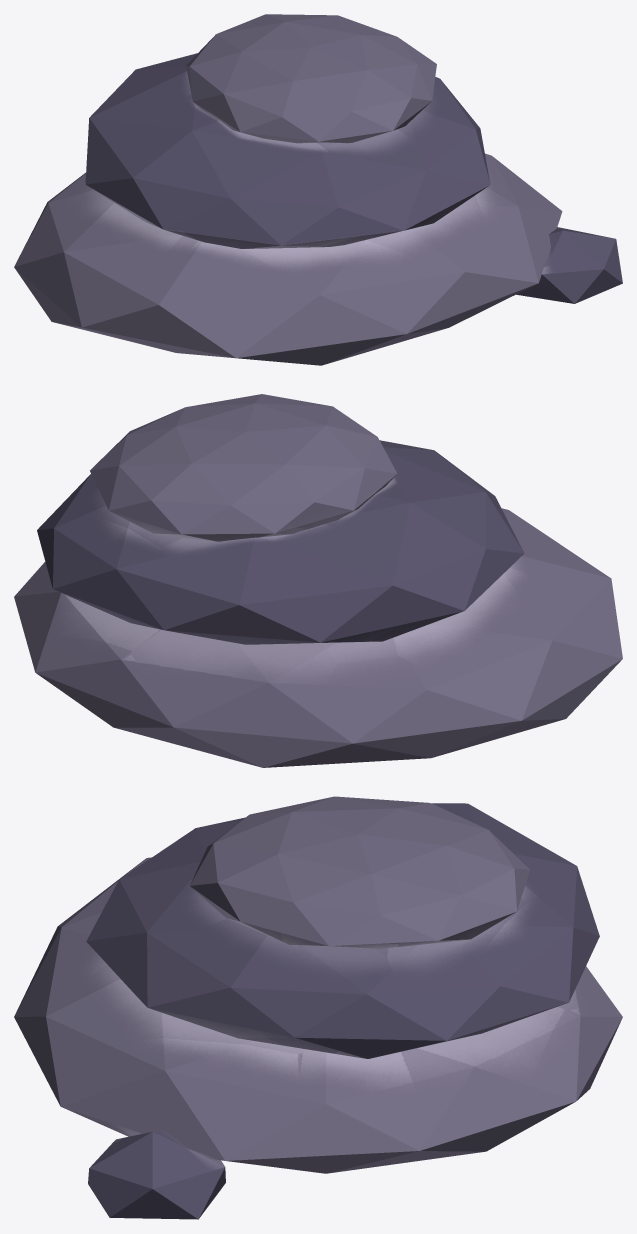
Rendered from rock_stack_painted.glb.
3 views of the same model, one above another, from view 1: azimuth 30°, elevation 25°; view 2: azimuth 150°, elevation 25°; view 3: azimuth 270°, elevation 25° (orthographic). The views are drawn at different scales.
Visible parts, largest first — view 1: RockStack; view 2: RockStack; view 3: RockStack.
Boxes of the visible parts, left/top/right/bottom form: RockStack: left=14, top=14, right=622, bottom=365; RockStack: left=14, top=394, right=622, bottom=767; RockStack: left=14, top=796, right=622, bottom=1219.
Bounding box in the file's own units: 2.24 × 0.9048 × 1.93.
2 materials, 2 textured.
